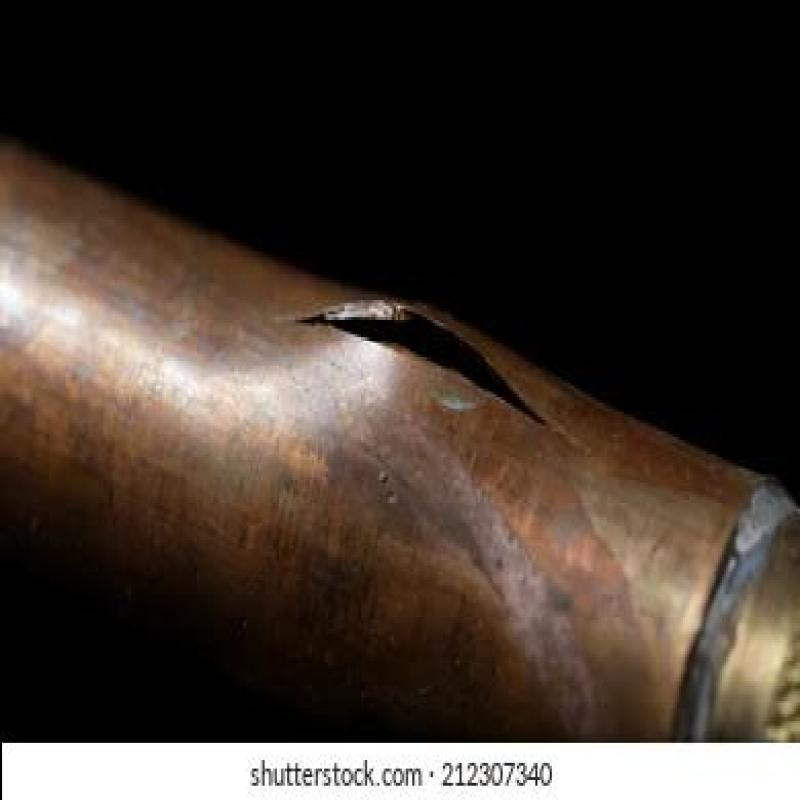Fracture: (280, 281, 564, 438)
